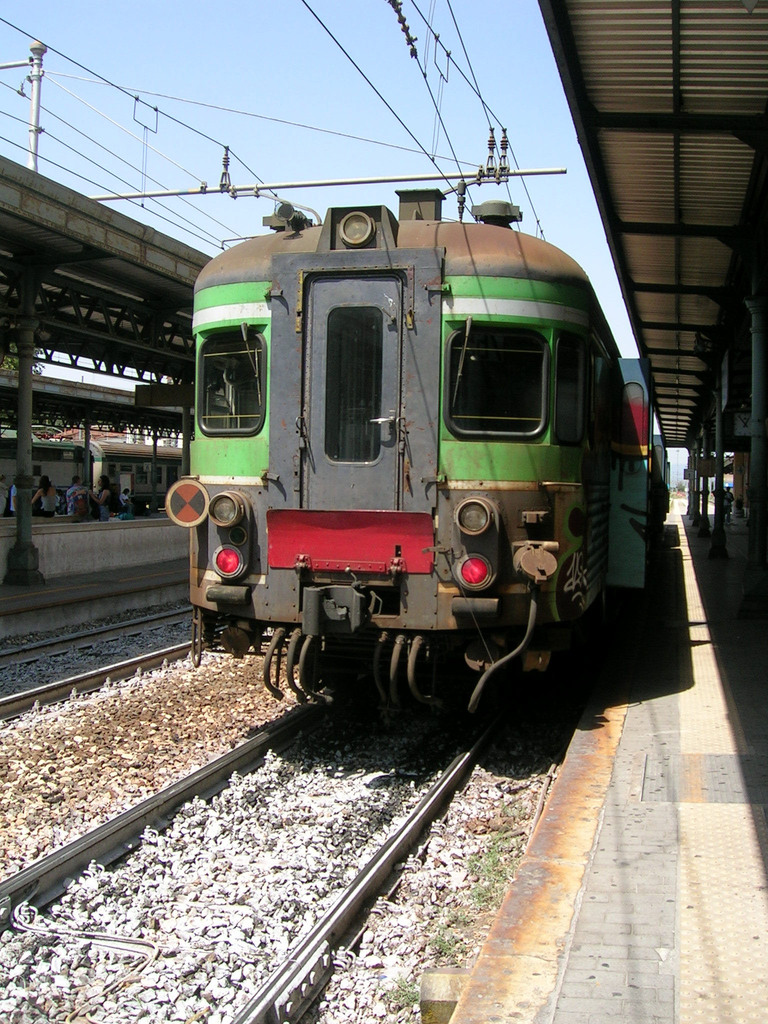train: (161, 154, 684, 736)
